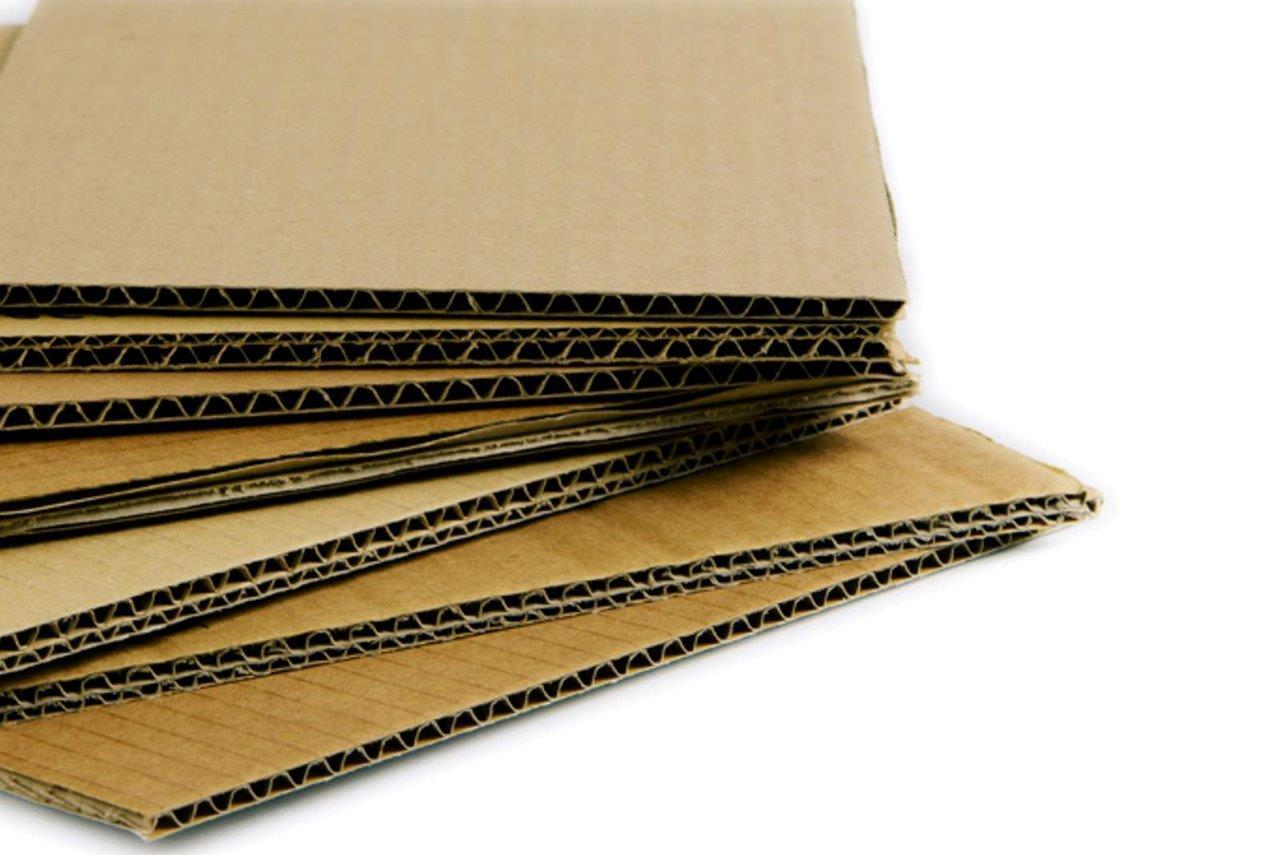plastic: (0, 408, 1007, 855), (0, 377, 1103, 726), (0, 310, 917, 676), (0, 0, 906, 320), (0, 319, 900, 440), (0, 366, 570, 501), (0, 318, 888, 375)
